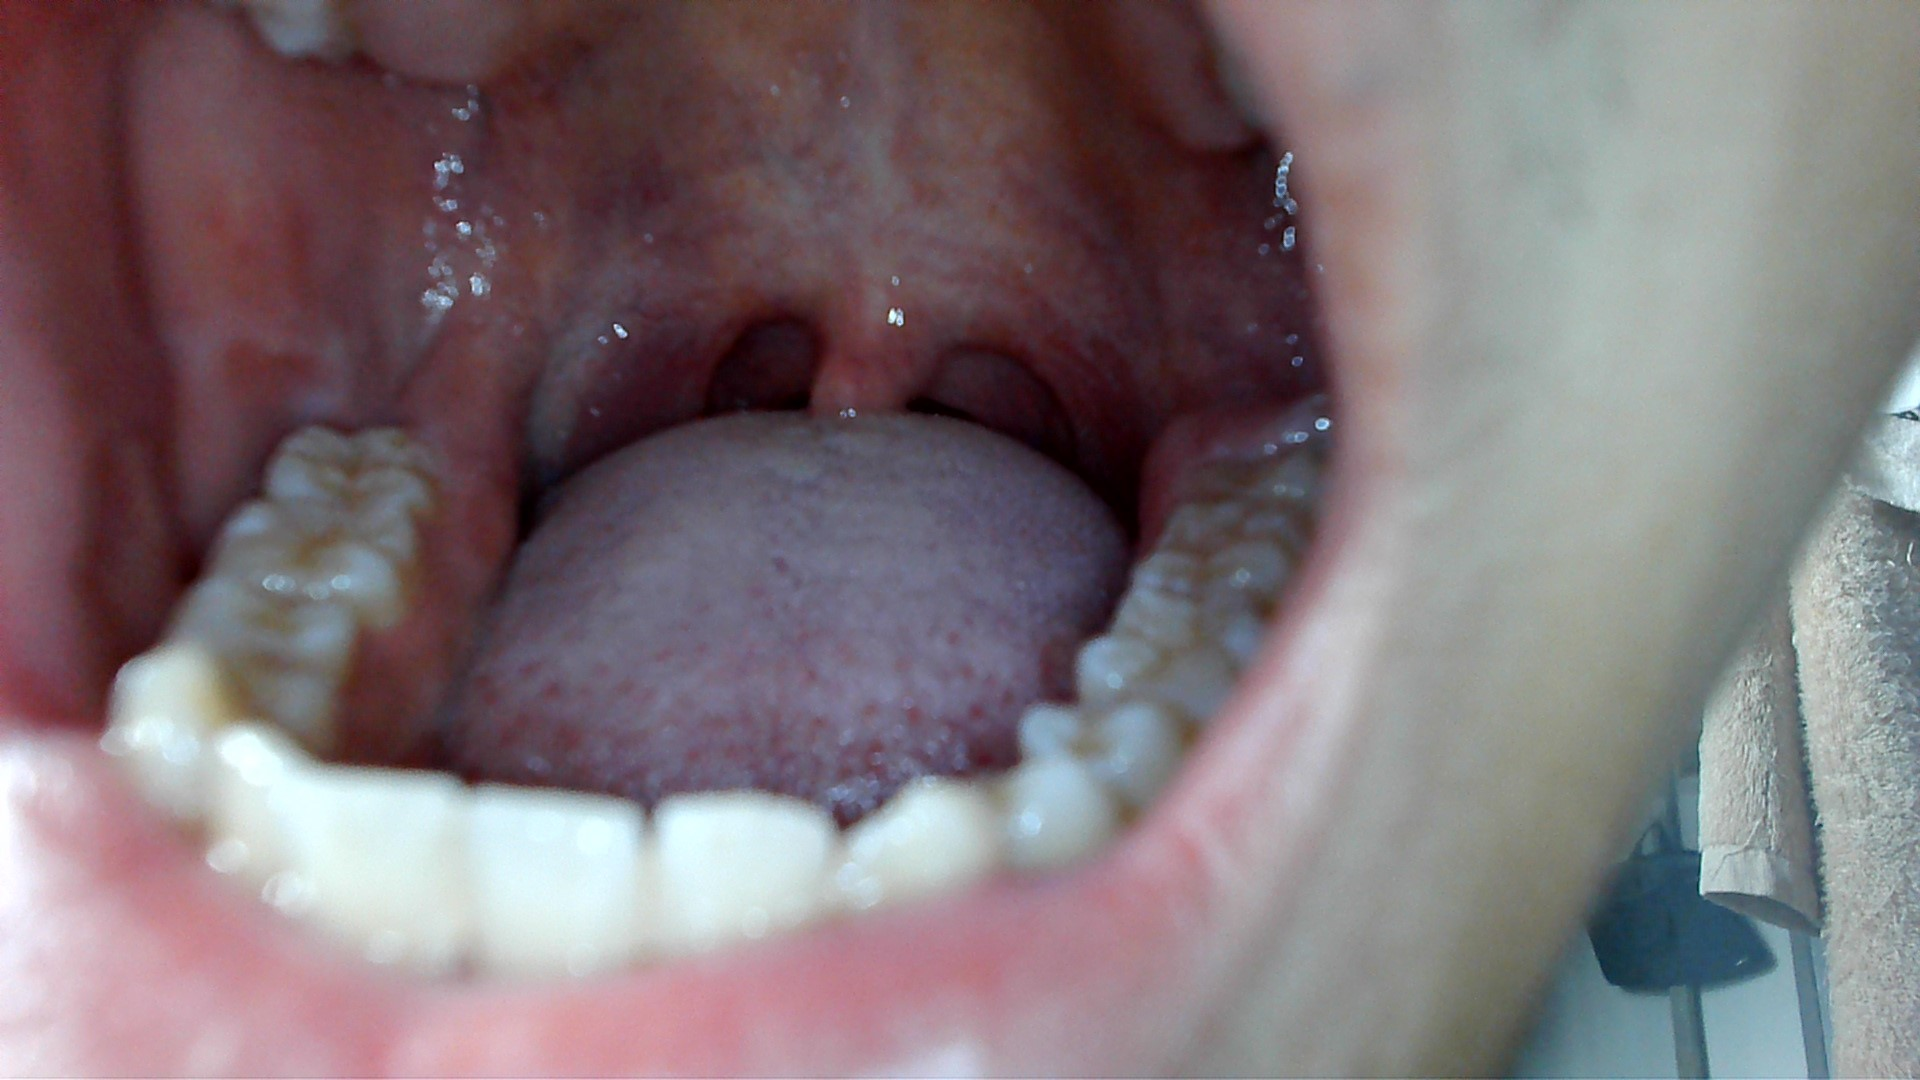throat: (1030, 301, 1130, 468), (658, 272, 742, 429)
